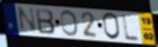2: (80, 11, 99, 38)
B: (35, 8, 57, 36)
L: (121, 13, 141, 42)
N: (16, 6, 39, 35)
O: (102, 12, 122, 41), (60, 9, 80, 38)
